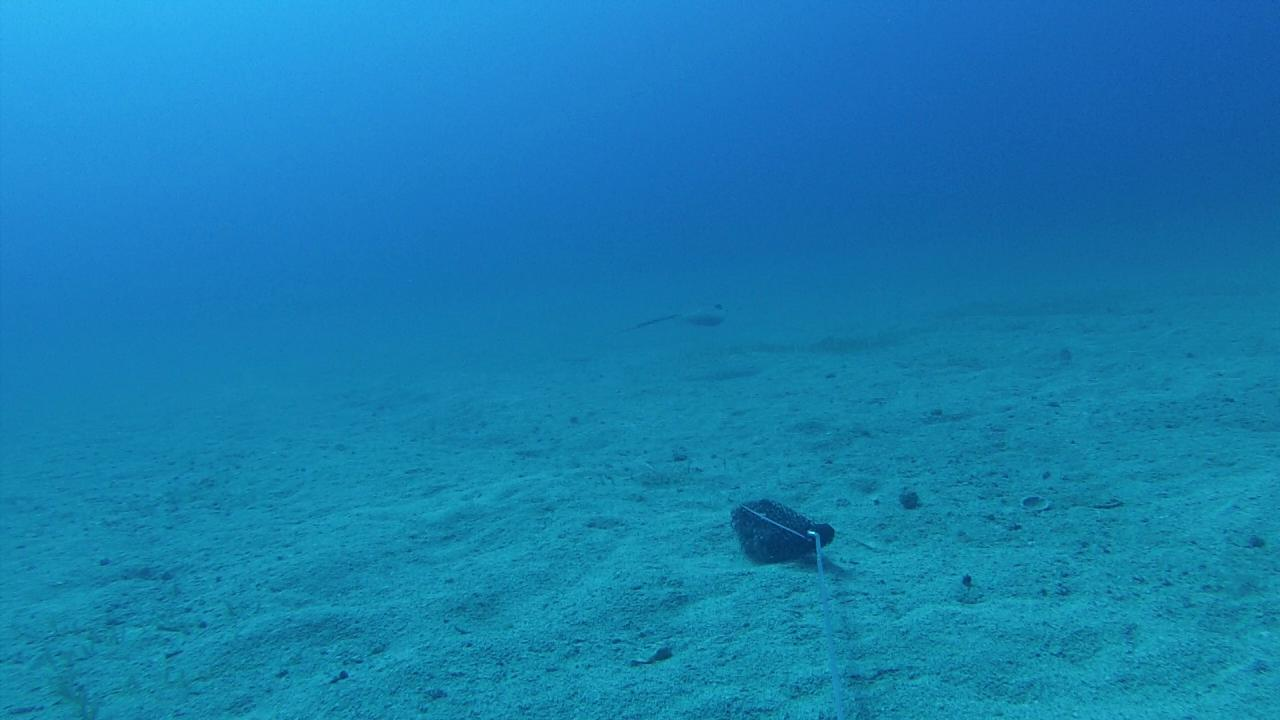dasyatis: (624, 302, 728, 330)
